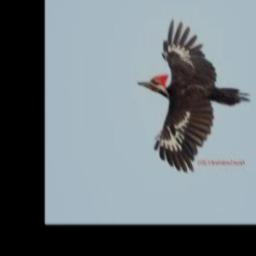Woodpecker: (139, 18, 251, 171)
